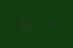eight: (18, 20, 24, 28)
four: (32, 20, 38, 28), (39, 20, 45, 28)
three: (46, 20, 52, 28)
two: (25, 20, 31, 28)
